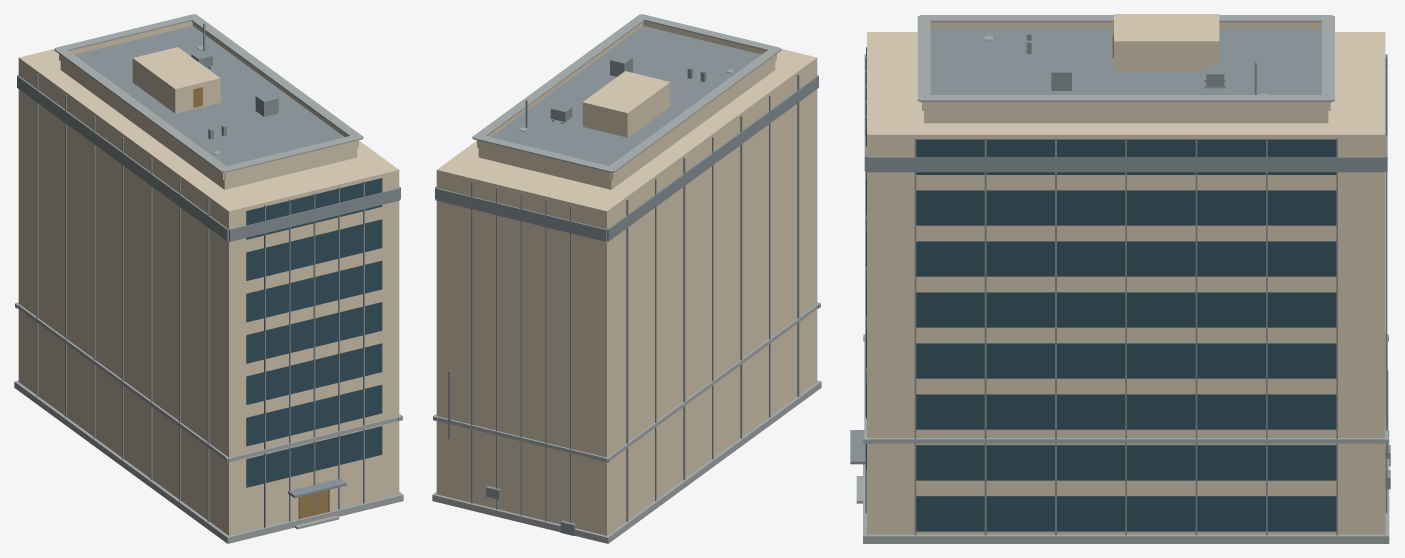
The model's file is tower-office.glb.
3 views of the same model, side by side, from view 1: azimuth 30°, elevation 25°; view 2: azimuth 150°, elevation 25°; view 3: azimuth 270°, elevation 25° (orthographic). The views are drawn at different scales.
Parts seen in each view (by area): view 1: wall-envelope, tower-flat-roof-slab, tower-lift-stair-head, opening-front-curtain-02, opening-front-curtain-05, opening-front-curtain-03, opening-front-curtain-04, opening-front-curtain-06, opening-front-curtain-01, tower-podium-base, tower-mechanical-floor-band-west, tower-crown-setback (+27 smaller); view 2: wall-envelope, tower-flat-roof-slab, tower-lift-stair-head, tower-podium-base, tower-mechanical-floor-band-west, tower-crown-setback, tower-mechanical-floor-band-rear, tower-coping-east, tower-coping-west, tower-podium-cornice-west, tower-parapet-west, tower-parapet-rear (+17 smaller); view 3: wall-envelope, tower-flat-roof-slab, opening-east-curtain-00, opening-east-curtain-01, opening-east-curtain-02, opening-east-curtain-03, opening-east-curtain-04, opening-east-curtain-05, opening-east-curtain-06, opening-east-curtain-07, tower-mechanical-floor-band-east, tower-lift-stair-head (+17 smaller).
Part boxes in pixels (x1,y1,x2,y2): wall-envelope: (18, 49, 399, 535); tower-flat-roof-slab: (75, 26, 344, 165); tower-lift-stair-head: (132, 47, 220, 113); opening-front-curtain-02: (246, 384, 382, 446); opening-front-curtain-05: (246, 260, 382, 322); opening-front-curtain-03: (246, 343, 382, 404); opening-front-curtain-04: (246, 302, 382, 363); opening-front-curtain-06: (246, 219, 382, 280); opening-front-curtain-01: (246, 426, 382, 487); tower-podium-base: (14, 380, 403, 543); tower-mechanical-floor-band-west: (17, 75, 228, 241); tower-crown-setback: (60, 61, 357, 189); wall-envelope: (436, 49, 817, 535); tower-flat-roof-slab: (491, 26, 760, 165); tower-lift-stair-head: (582, 71, 670, 137); tower-podium-base: (432, 380, 821, 543); tower-mechanical-floor-band-west: (607, 75, 818, 241); tower-crown-setback: (478, 61, 775, 189); tower-mechanical-floor-band-rear: (435, 188, 606, 241); tower-coping-east: (472, 14, 648, 138); tower-coping-west: (607, 47, 781, 172); tower-podium-cornice-west: (603, 302, 820, 462); tower-parapet-west: (611, 54, 776, 179); tower-parapet-rear: (477, 140, 611, 180); wall-envelope: (867, 32, 1385, 534); tower-flat-roof-slab: (930, 28, 1321, 94); opening-east-curtain-00: (916, 496, 1336, 531); opening-east-curtain-01: (916, 445, 1336, 480); opening-east-curtain-02: (916, 394, 1336, 429); opening-east-curtain-03: (916, 343, 1336, 378); opening-east-curtain-04: (916, 292, 1336, 327); opening-east-curtain-05: (916, 241, 1336, 276); opening-east-curtain-06: (916, 190, 1336, 225); opening-east-curtain-07: (916, 139, 1336, 174); tower-mechanical-floor-band-east: (867, 157, 1385, 172); tower-lift-stair-head: (1114, 14, 1219, 71).
Bounding box in the file's own units: 14.26 × 28.7 × 30.75.
